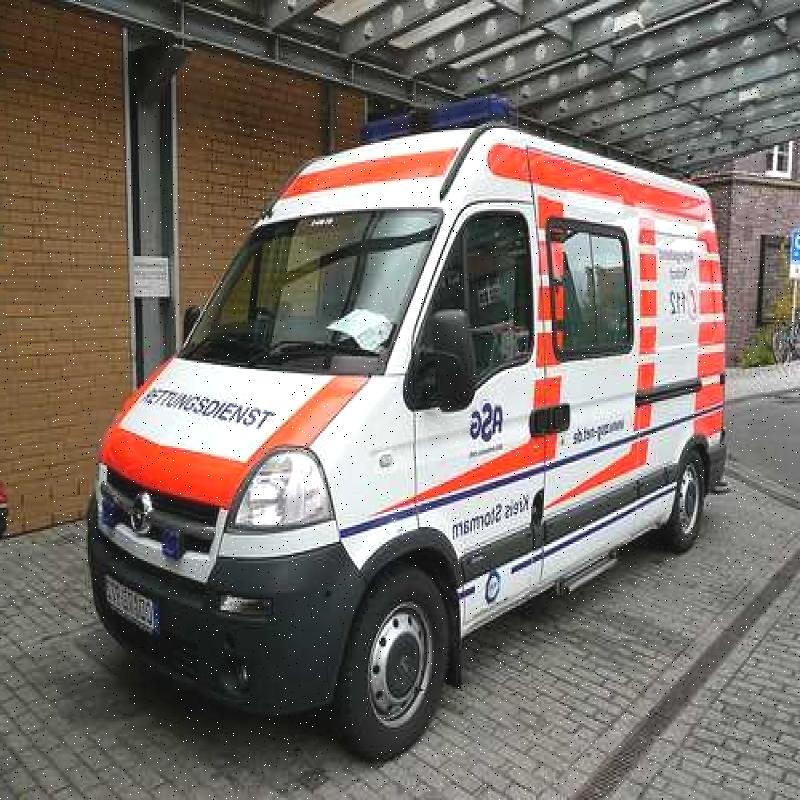AmbulanceSiren: (343, 80, 509, 155)
